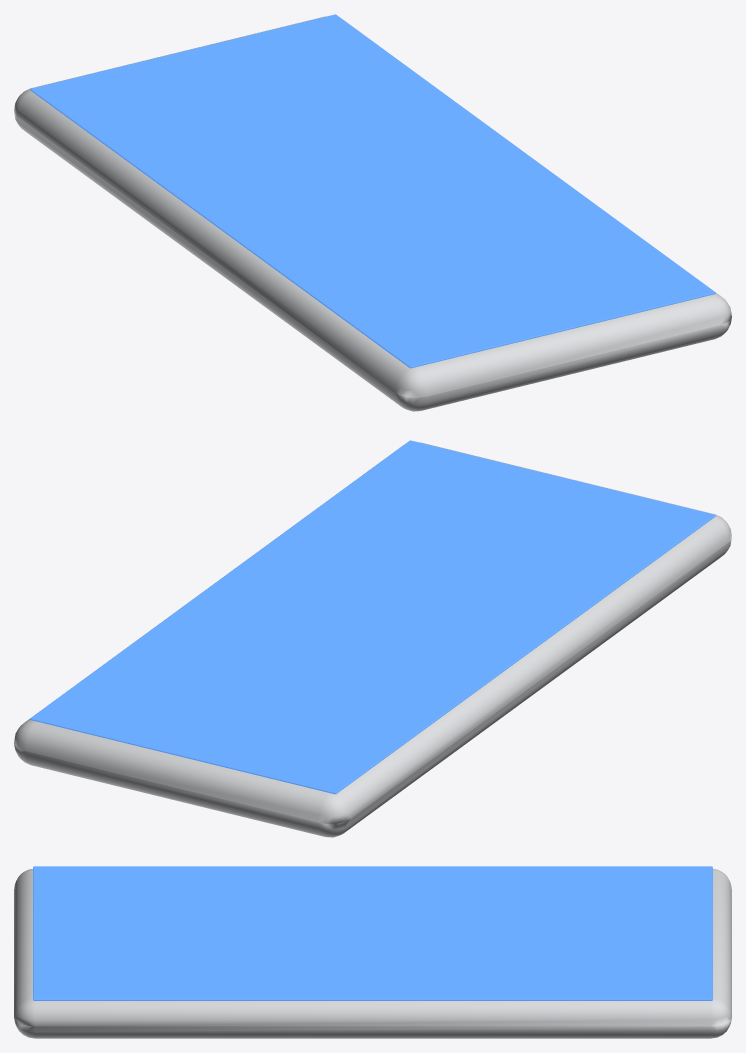
Rendered from Telephone.fbx.
3 views of the same model, one above another, from view 1: azimuth 30°, elevation 25°; view 2: azimuth 150°, elevation 25°; view 3: azimuth 270°, elevation 25° (orthographic). The views are drawn at different scales.
Parts seen in each view (by area): view 1: Telephone_Screen, Telephone_Body; view 2: Telephone_Screen, Telephone_Body; view 3: Telephone_Screen, Telephone_Body.
Part boxes in pixels (x1,y1,x2,y2): Telephone_Screen: (30,14,715,368); Telephone_Body: (14,16,731,411); Telephone_Screen: (30,440,715,794); Telephone_Body: (14,442,731,837); Telephone_Screen: (33,866,712,1000); Telephone_Body: (14,869,731,1038).
Size of the model in its own units: 0.072 by 0.0108 by 0.15.
